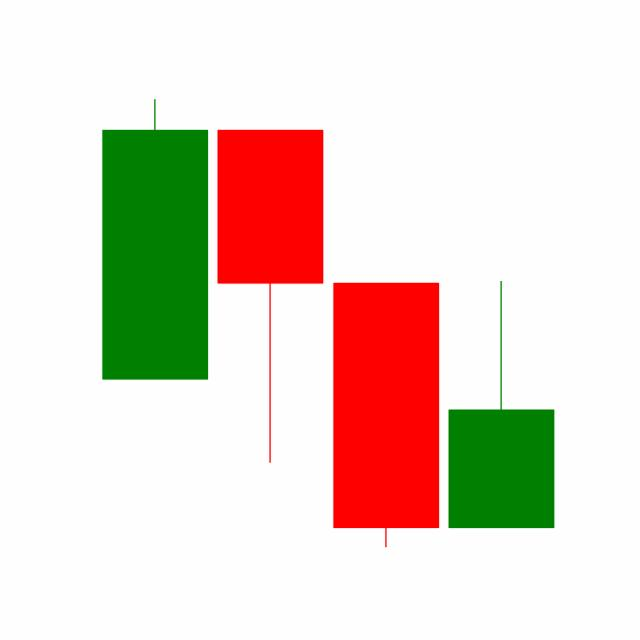Marubozu: (328, 279, 444, 550)
